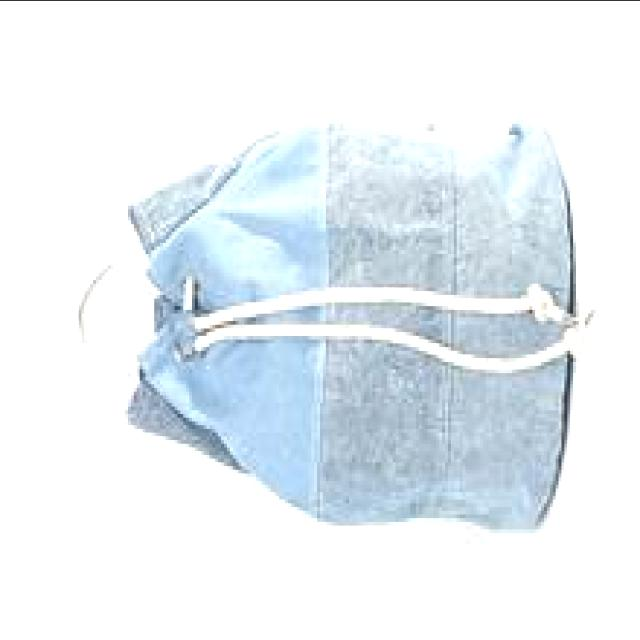backpack: (77, 113, 586, 533)
